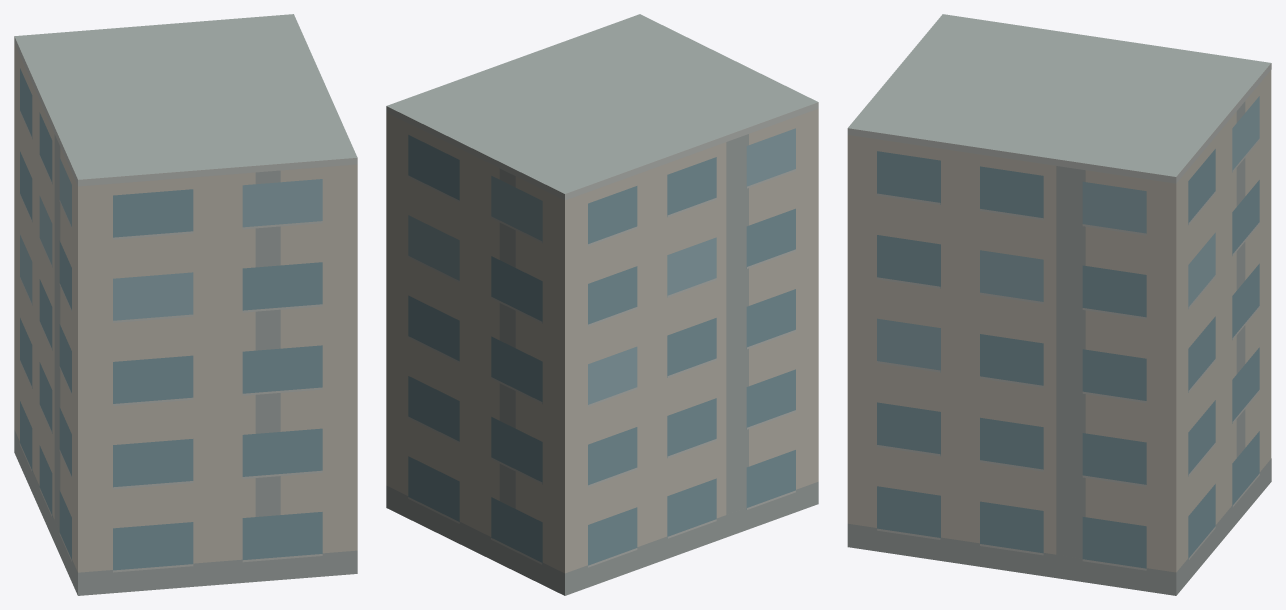
The model's file is residential-b3aeeb6f-04a4-497a-aeb1-ee74a87952d5.glb.
3 views of the same model, side by side, from view 1: azimuth 30°, elevation 25°; view 2: azimuth 150°, elevation 25°; view 3: azimuth 270°, elevation 25° (orthographic). The views are drawn at different scales.
Visible parts, largest first — view 1: residential-b3aeeb6f-04a4-497a-aeb1-ee74a87952d5.tmp; view 2: residential-b3aeeb6f-04a4-497a-aeb1-ee74a87952d5.tmp; view 3: residential-b3aeeb6f-04a4-497a-aeb1-ee74a87952d5.tmp.
Boxes of the visible parts, left/top/right/bottom form: residential-b3aeeb6f-04a4-497a-aeb1-ee74a87952d5.tmp: left=14, top=14, right=357, bottom=595; residential-b3aeeb6f-04a4-497a-aeb1-ee74a87952d5.tmp: left=386, top=14, right=818, bottom=595; residential-b3aeeb6f-04a4-497a-aeb1-ee74a87952d5.tmp: left=847, top=14, right=1271, bottom=595.
Size of the model in its own units: 12.74 by 15.25 by 13.99.
